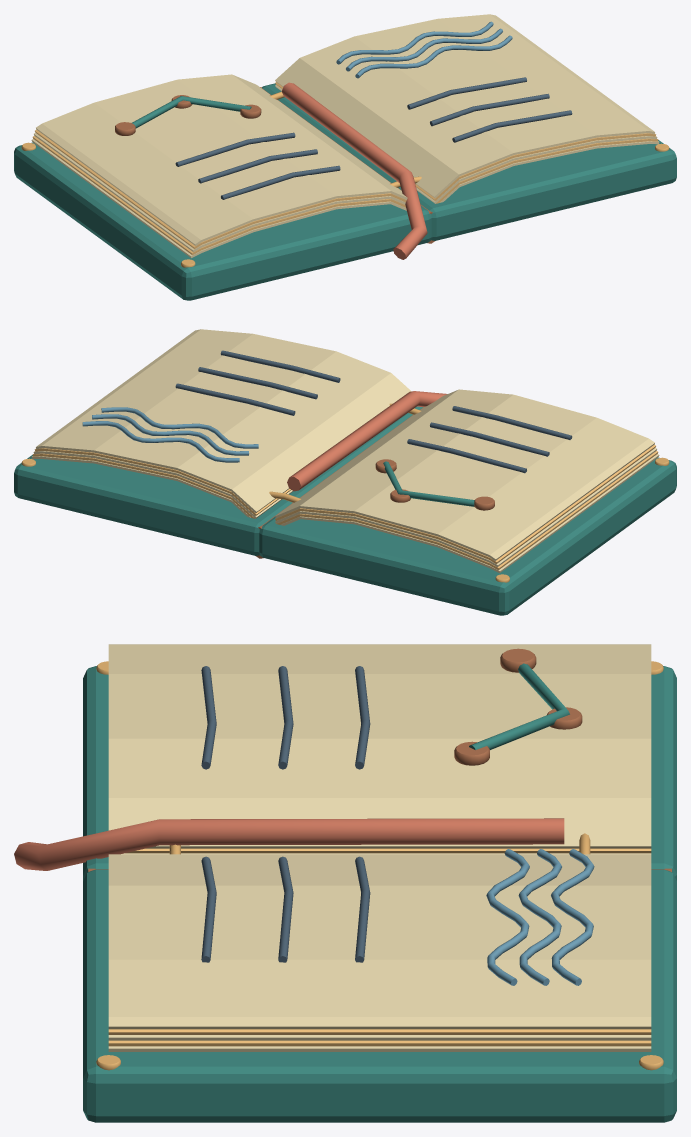
3 renders of one model, top to bottom at view 1: azimuth 30°, elevation 25°; view 2: azimuth 150°, elevation 25°; view 3: azimuth 270°, elevation 25°, orthographic. The views are drawn at different scales.
Visible parts, largest first — view 1: PR121 enamel and hardware; view 2: PR121 enamel and hardware; view 3: PR121 enamel and hardware.
Part boxes in pixels (x1,y1,x2,y2): PR121 enamel and hardware: (14, 14, 676, 300); PR121 enamel and hardware: (14, 329, 676, 615); PR121 enamel and hardware: (14, 644, 676, 1122).
Bounding box in the file's own units: 0.4 × 0.0558 × 0.2726.
